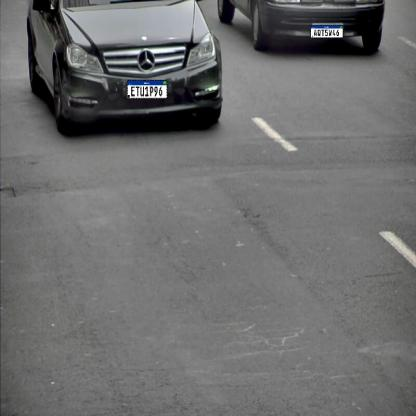PlacaM: (127, 80, 167, 99), (310, 25, 344, 38)
